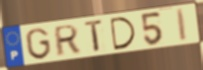5: (140, 9, 165, 47)
D: (108, 16, 138, 52)
G: (24, 26, 53, 60)
I: (175, 7, 189, 43)
R: (54, 23, 81, 58)
T: (84, 18, 105, 54)
